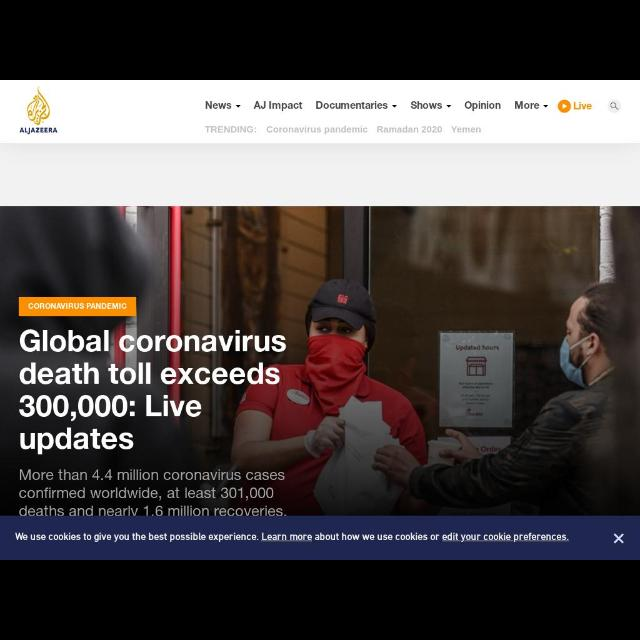backgroundimage: (0, 207, 638, 516)
icon: (557, 98, 571, 114), (611, 530, 625, 544), (608, 100, 622, 112), (446, 104, 452, 110), (392, 103, 398, 109), (544, 104, 548, 110), (235, 104, 241, 108)
iframe: (1, 517, 639, 559)
image: (14, 88, 60, 138)
spinner: (313, 98, 401, 112), (200, 97, 246, 113), (407, 98, 455, 112), (512, 98, 550, 112)
text: (17, 327, 289, 455), (19, 468, 287, 516), (14, 530, 572, 544), (203, 124, 484, 136), (315, 99, 389, 111), (28, 302, 128, 310), (253, 100, 303, 110), (464, 99, 500, 111), (409, 98, 443, 110), (514, 100, 540, 112), (204, 100, 232, 110), (573, 100, 593, 112)
toolbar: (1, 80, 640, 144)
